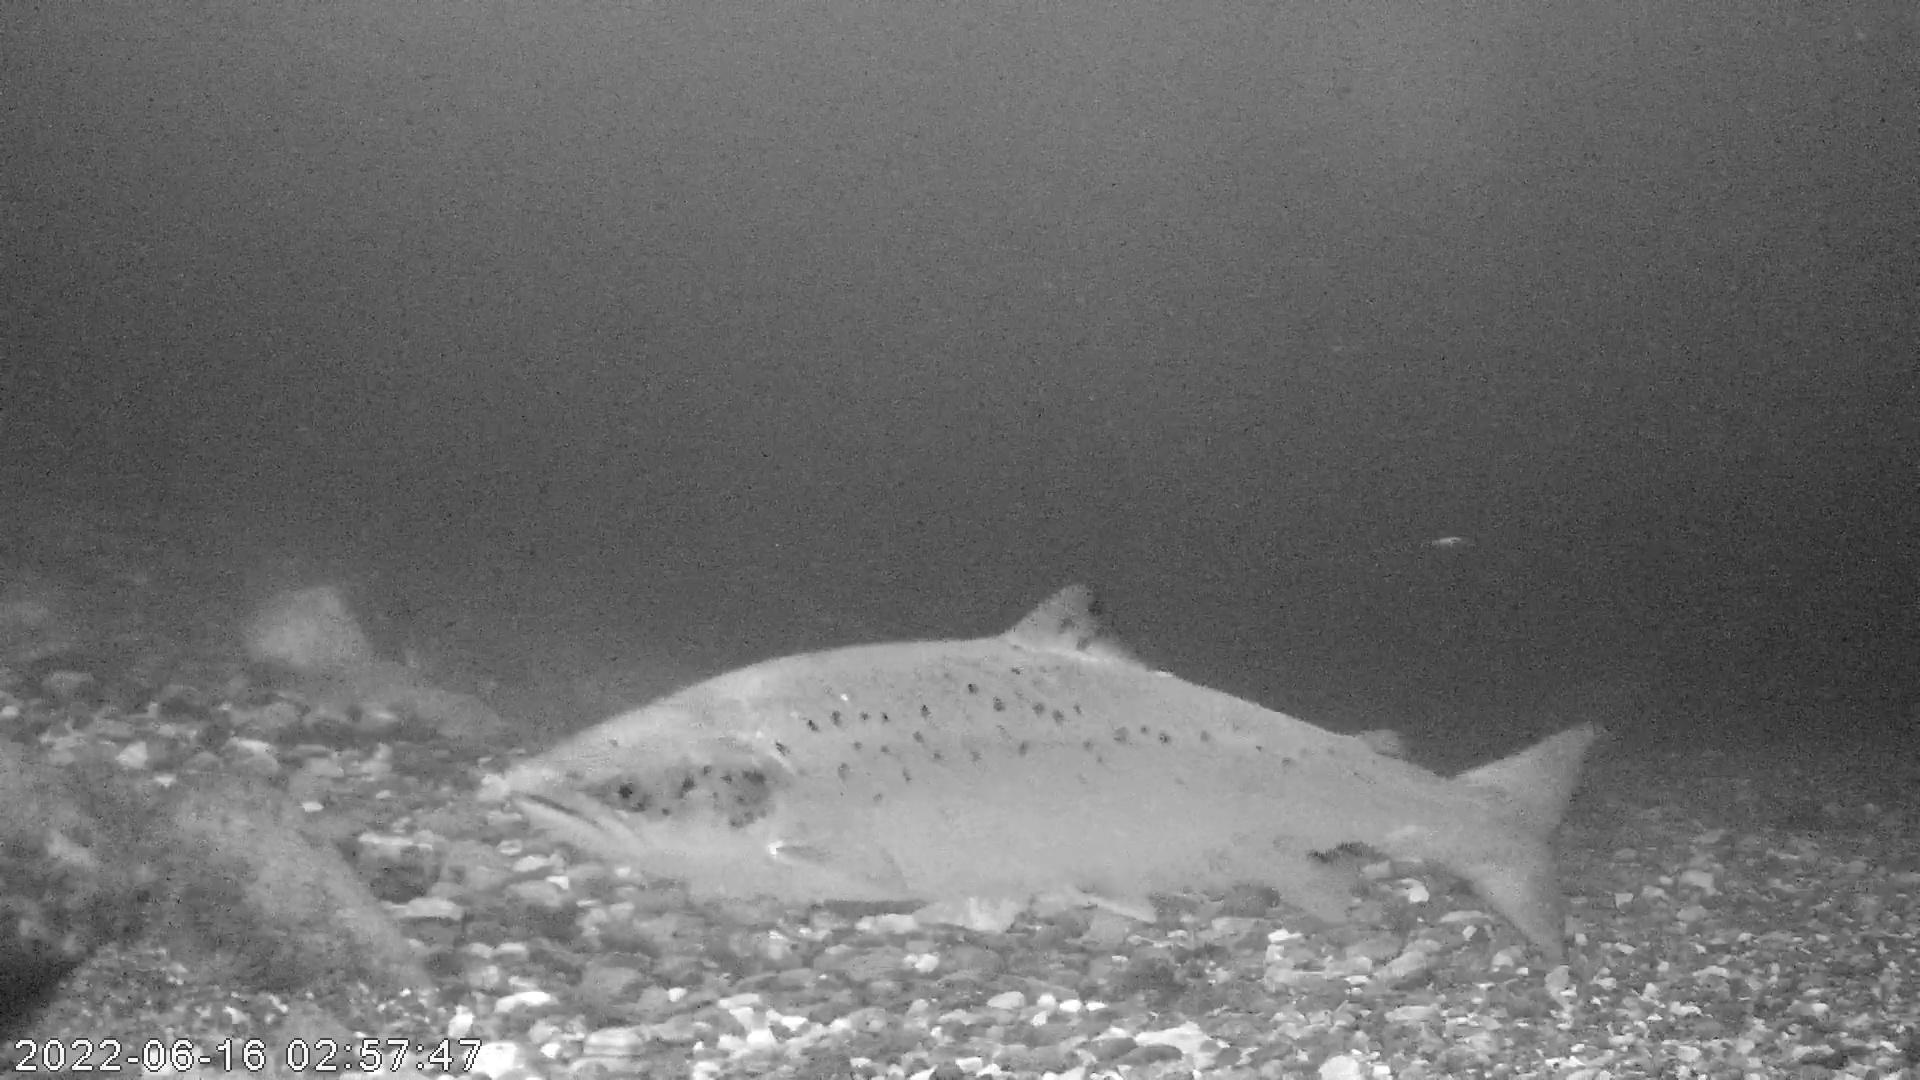salmon: (502, 578, 1602, 961)
